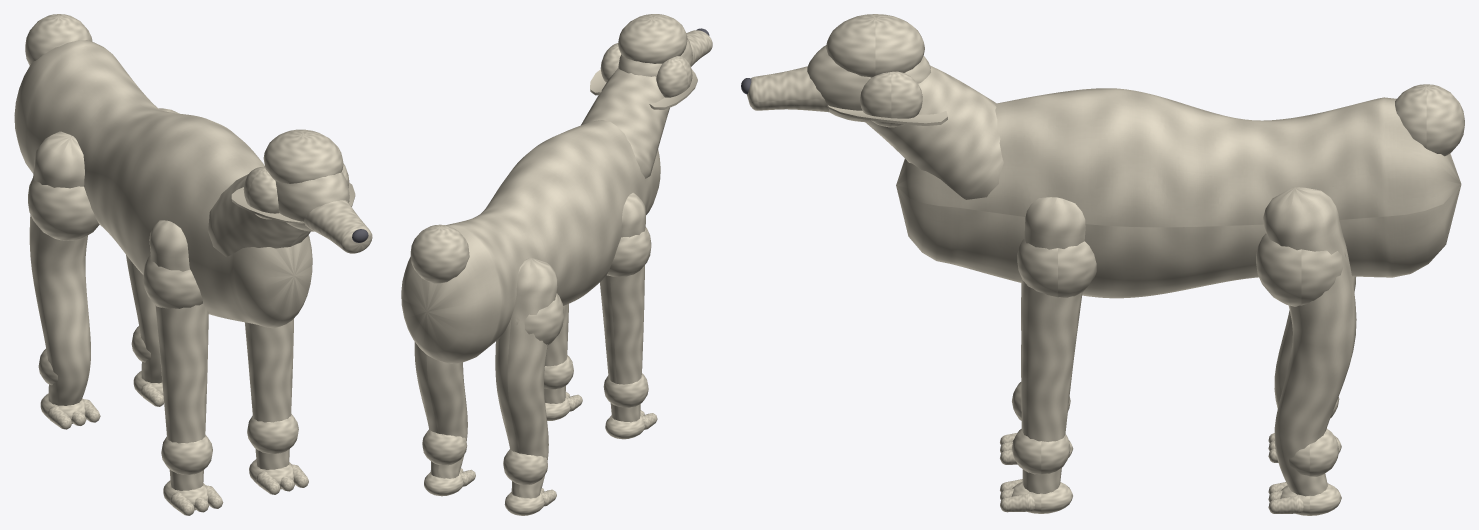
File: pets-and-companions-hd-poodle-22445655__28136.glb
The picture shows the model from 3 angles, left to right: view 1: azimuth 30°, elevation 25°; view 2: azimuth 150°, elevation 25°; view 3: azimuth 270°, elevation 25°; orthographic projection. The views are drawn at different scales.
Parts seen in each view (by area): view 1: poodle; view 2: poodle; view 3: poodle.
Part boxes in pixels (<box>): poodle: <box>14,14,372,515</box>; poodle: <box>401,14,712,515</box>; poodle: <box>741,14,1464,515</box>.
Size of the model in its own units: 0.2749 by 0.6649 by 0.9323.
Materials: 2 (1 with a texture image).
